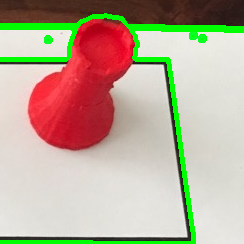Red Castle: (25, 20, 139, 154)
